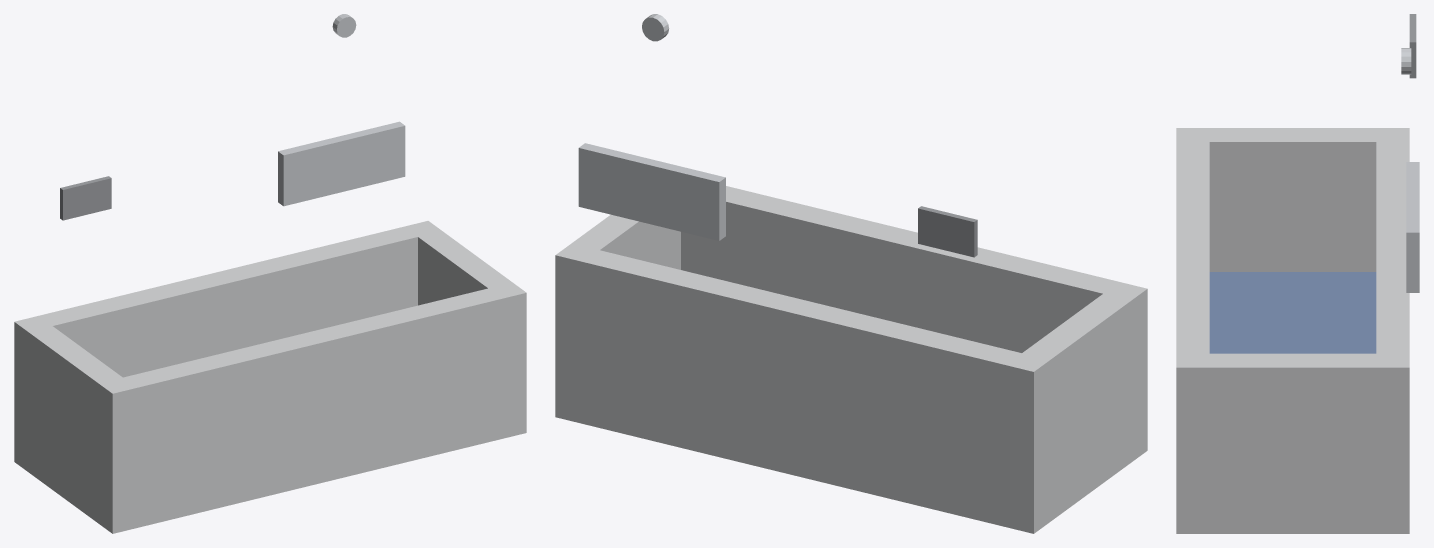
File: bathtub.glb
3 renders of one model, left to right at view 1: azimuth 30°, elevation 25°; view 2: azimuth 150°, elevation 25°; view 3: azimuth 270°, elevation 25°, orthographic. The views are drawn at different scales.
Visible parts, largest first — view 1: bathtub; view 2: bathtub; view 3: bathtub.
Boxes of the visible parts, left/top/right/bottom form: bathtub: left=14, top=14, right=526, bottom=533; bathtub: left=555, top=14, right=1147, bottom=533; bathtub: left=1176, top=14, right=1419, bottom=533.
Bounding box in the file's own units: 1.7 × 1.44 × 0.73.
